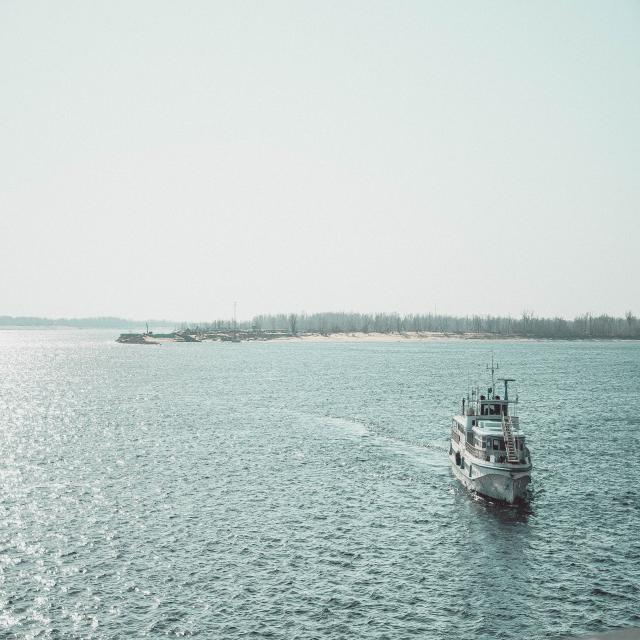houseboat: (447, 378, 534, 510)
